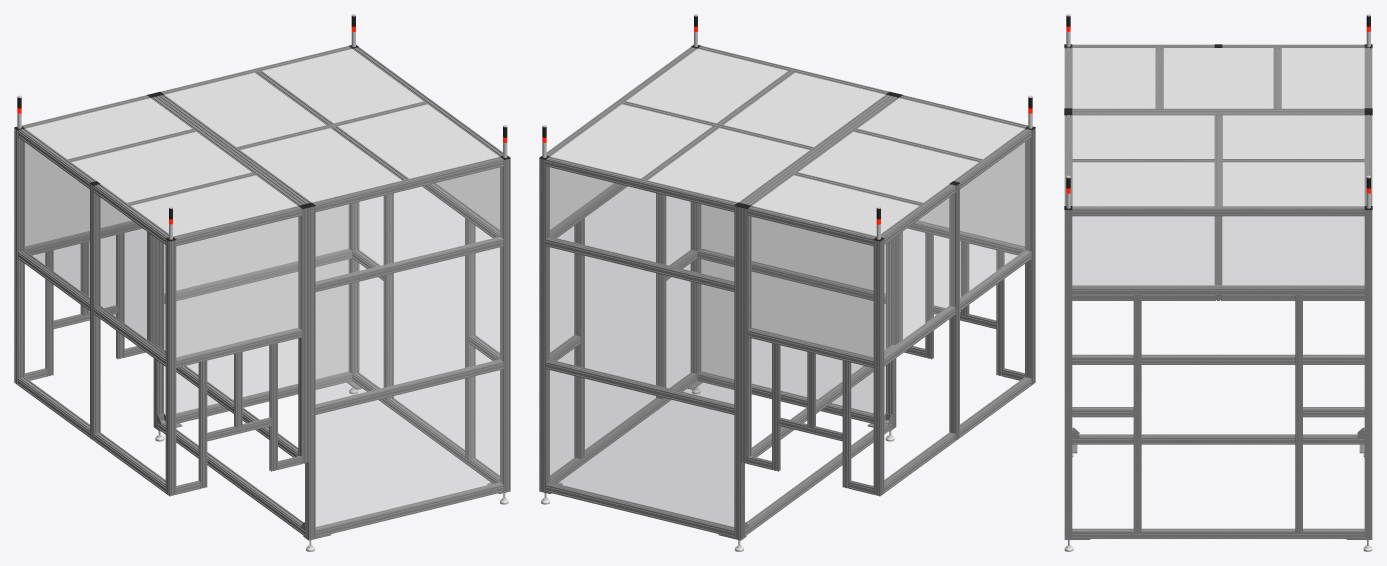
3 renders of one model, left to right at view 1: azimuth 30°, elevation 25°; view 2: azimuth 150°, elevation 25°; view 3: azimuth 270°, elevation 25°, orthographic.
Visible parts, largest first — view 1: 07_A_acryl, 07_A_frame_almi, 07_A_panel, 07_A_lamp; view 2: 07_A_acryl, 07_A_frame_almi, 07_A_panel, 07_A_lamp; view 3: 07_A_panel, 07_A_frame_almi, 07_A_acryl, 07_A_lamp.
Boxes of the visible parts, x1,y1,x2,y2 form: 07_A_acryl: (20,139,502,529); 07_A_frame_almi: (14,46,510,540); 07_A_panel: (25,49,499,236); 07_A_lamp: (17,14,507,239); 07_A_acryl: (547,139,1029,529); 07_A_frame_almi: (539,46,1035,540); 07_A_panel: (550,49,1024,236); 07_A_lamp: (542,14,1032,239); 07_A_panel: (1072,48,1364,206); 07_A_frame_almi: (1064,44,1372,539); 07_A_acryl: (1072,216,1364,287); 07_A_lamp: (1066,14,1370,208).
Size of the model in its own units: 3.04 by 3.22 by 2.4.
Materials: 6 (2 with a texture image).
